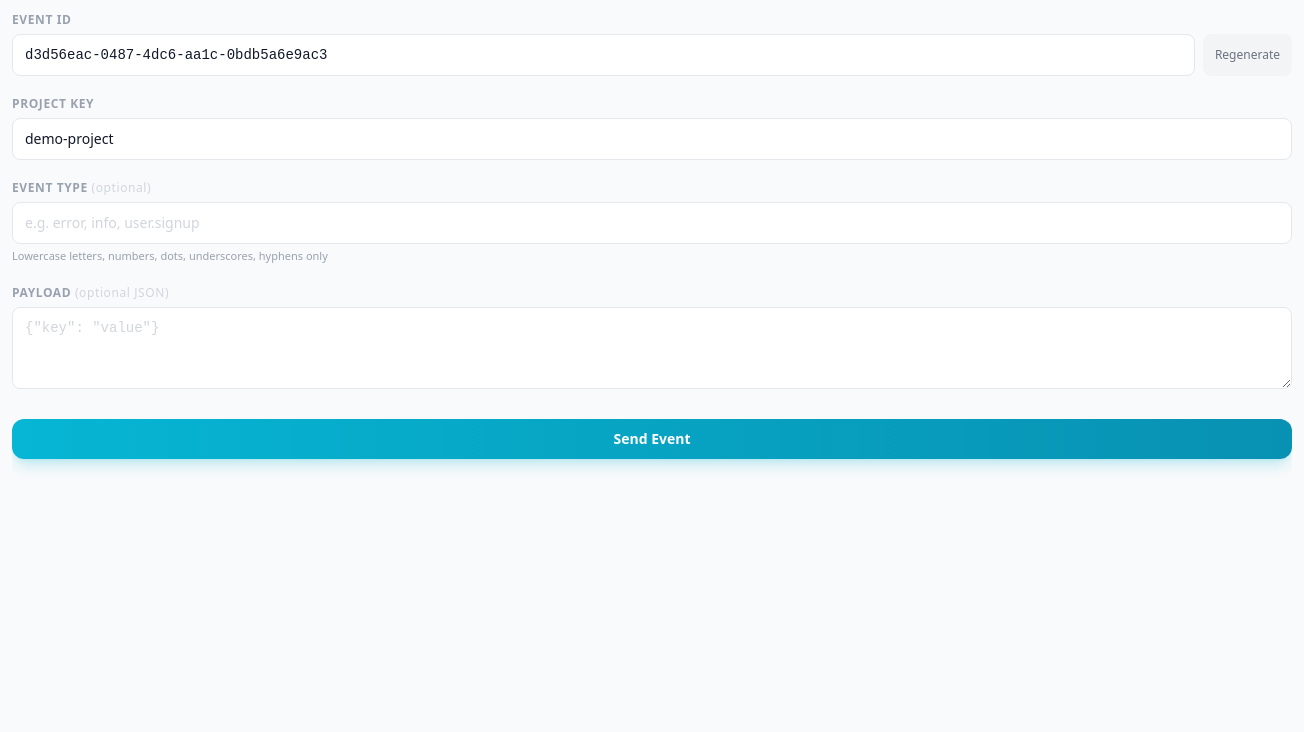
Test case: EventForm › shows validation error for invalid dimension value
Type "INVALID!!!" into the field labelled "Event Type (optional)" at (652, 223), box [12, 202, 1292, 244]
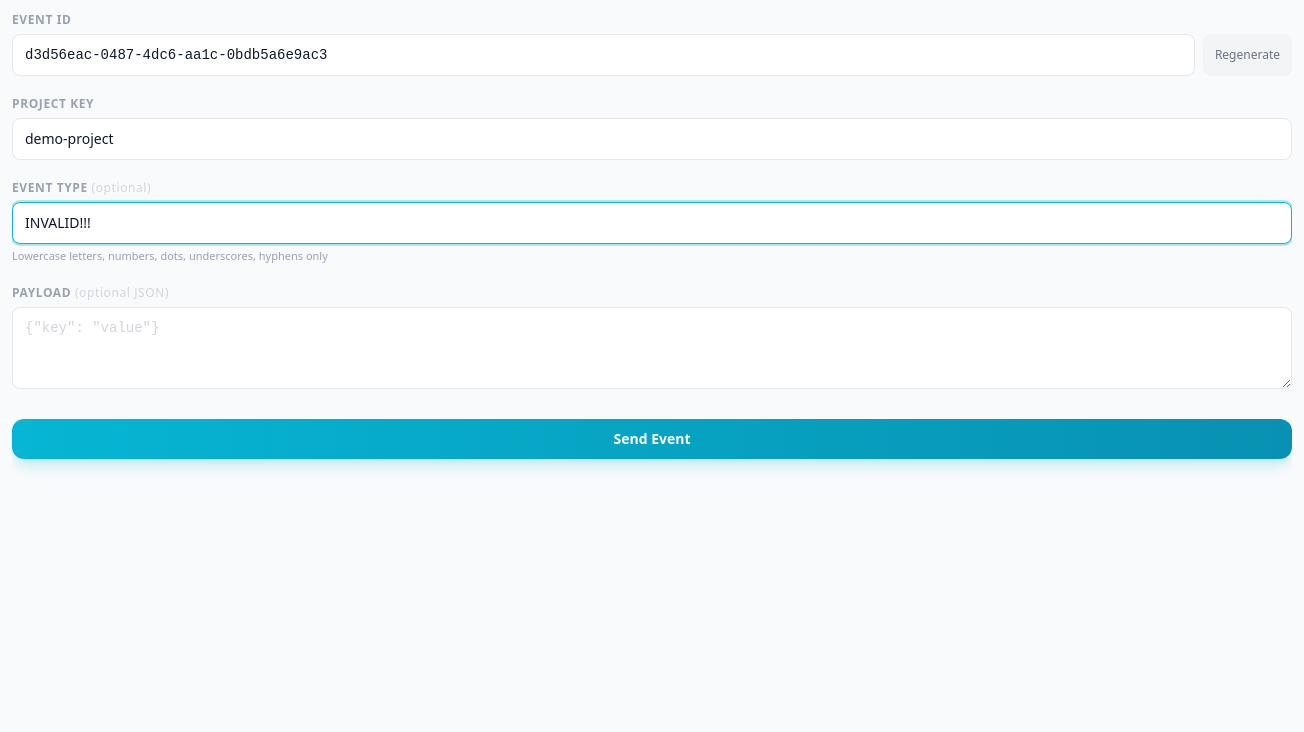
Click the button "Send Event" at (652, 438), box [12, 418, 1292, 458]
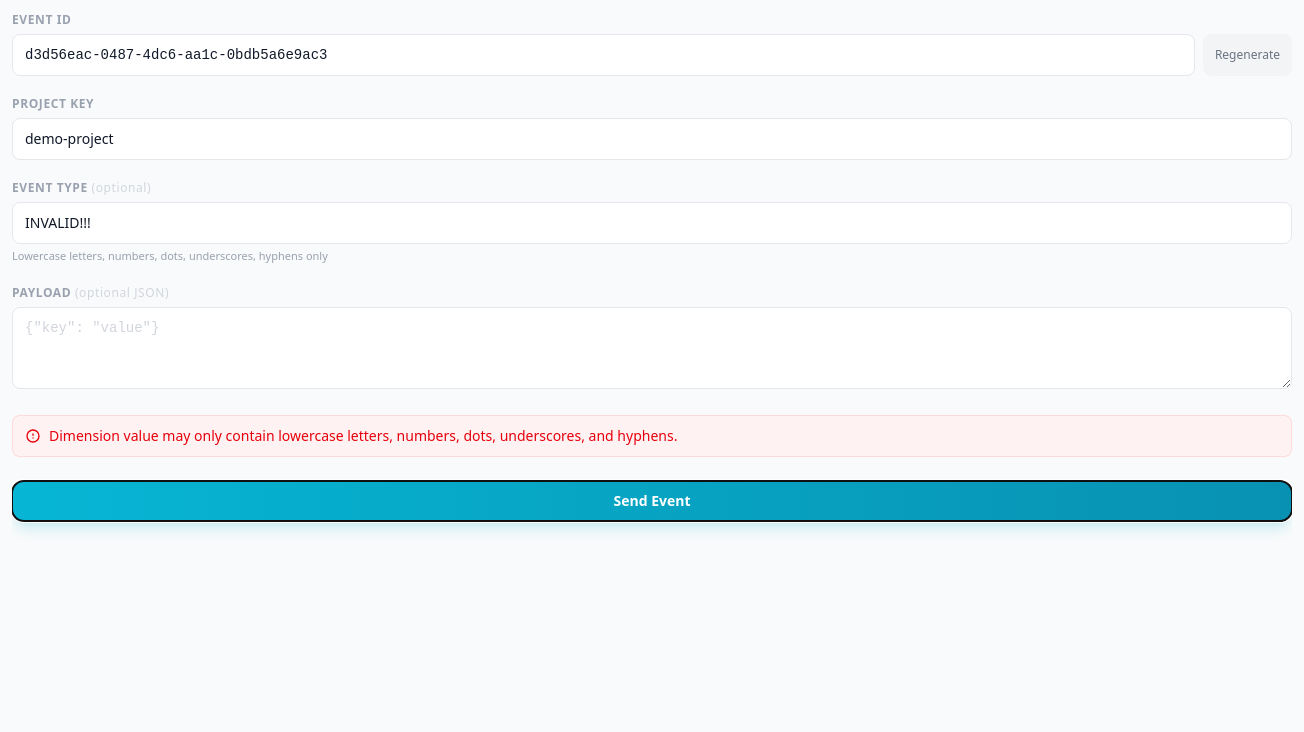
Check: the text "only contain lowercase" is shown, box [49, 426, 677, 444]
